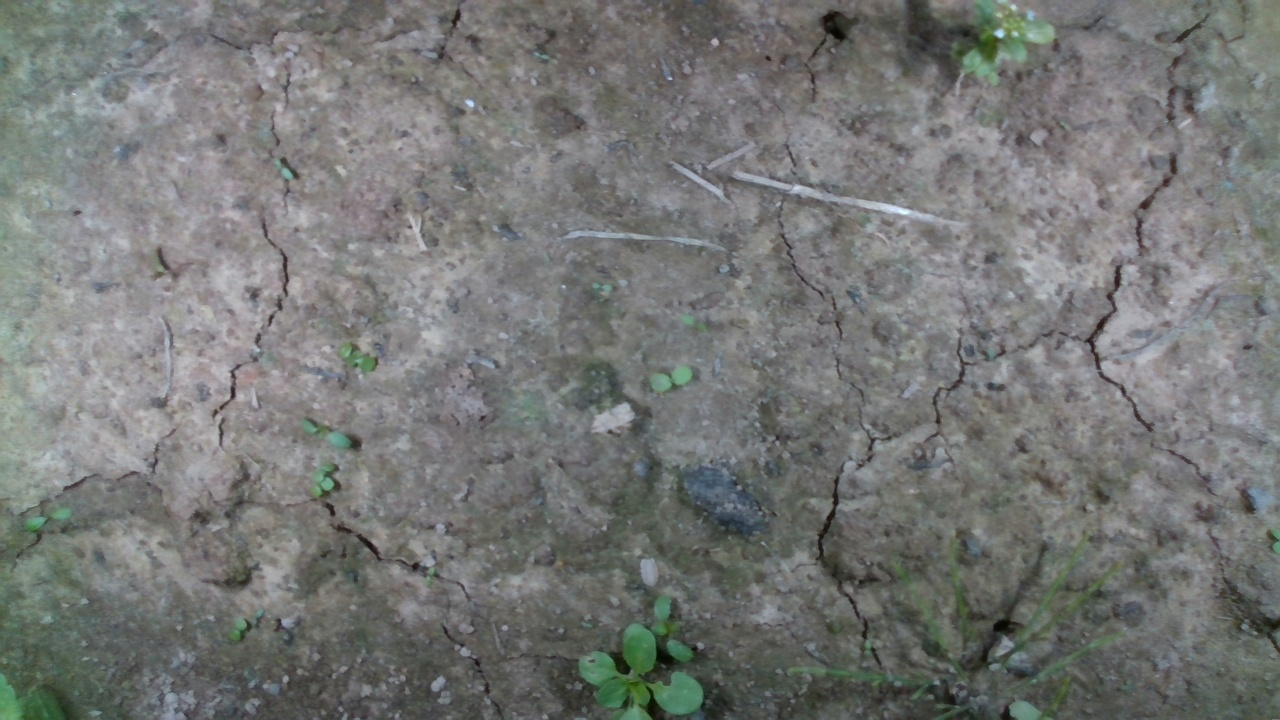weed: (298, 416, 352, 450), (21, 505, 73, 532), (647, 365, 693, 395), (337, 342, 378, 372), (271, 155, 294, 182), (228, 616, 246, 642)
